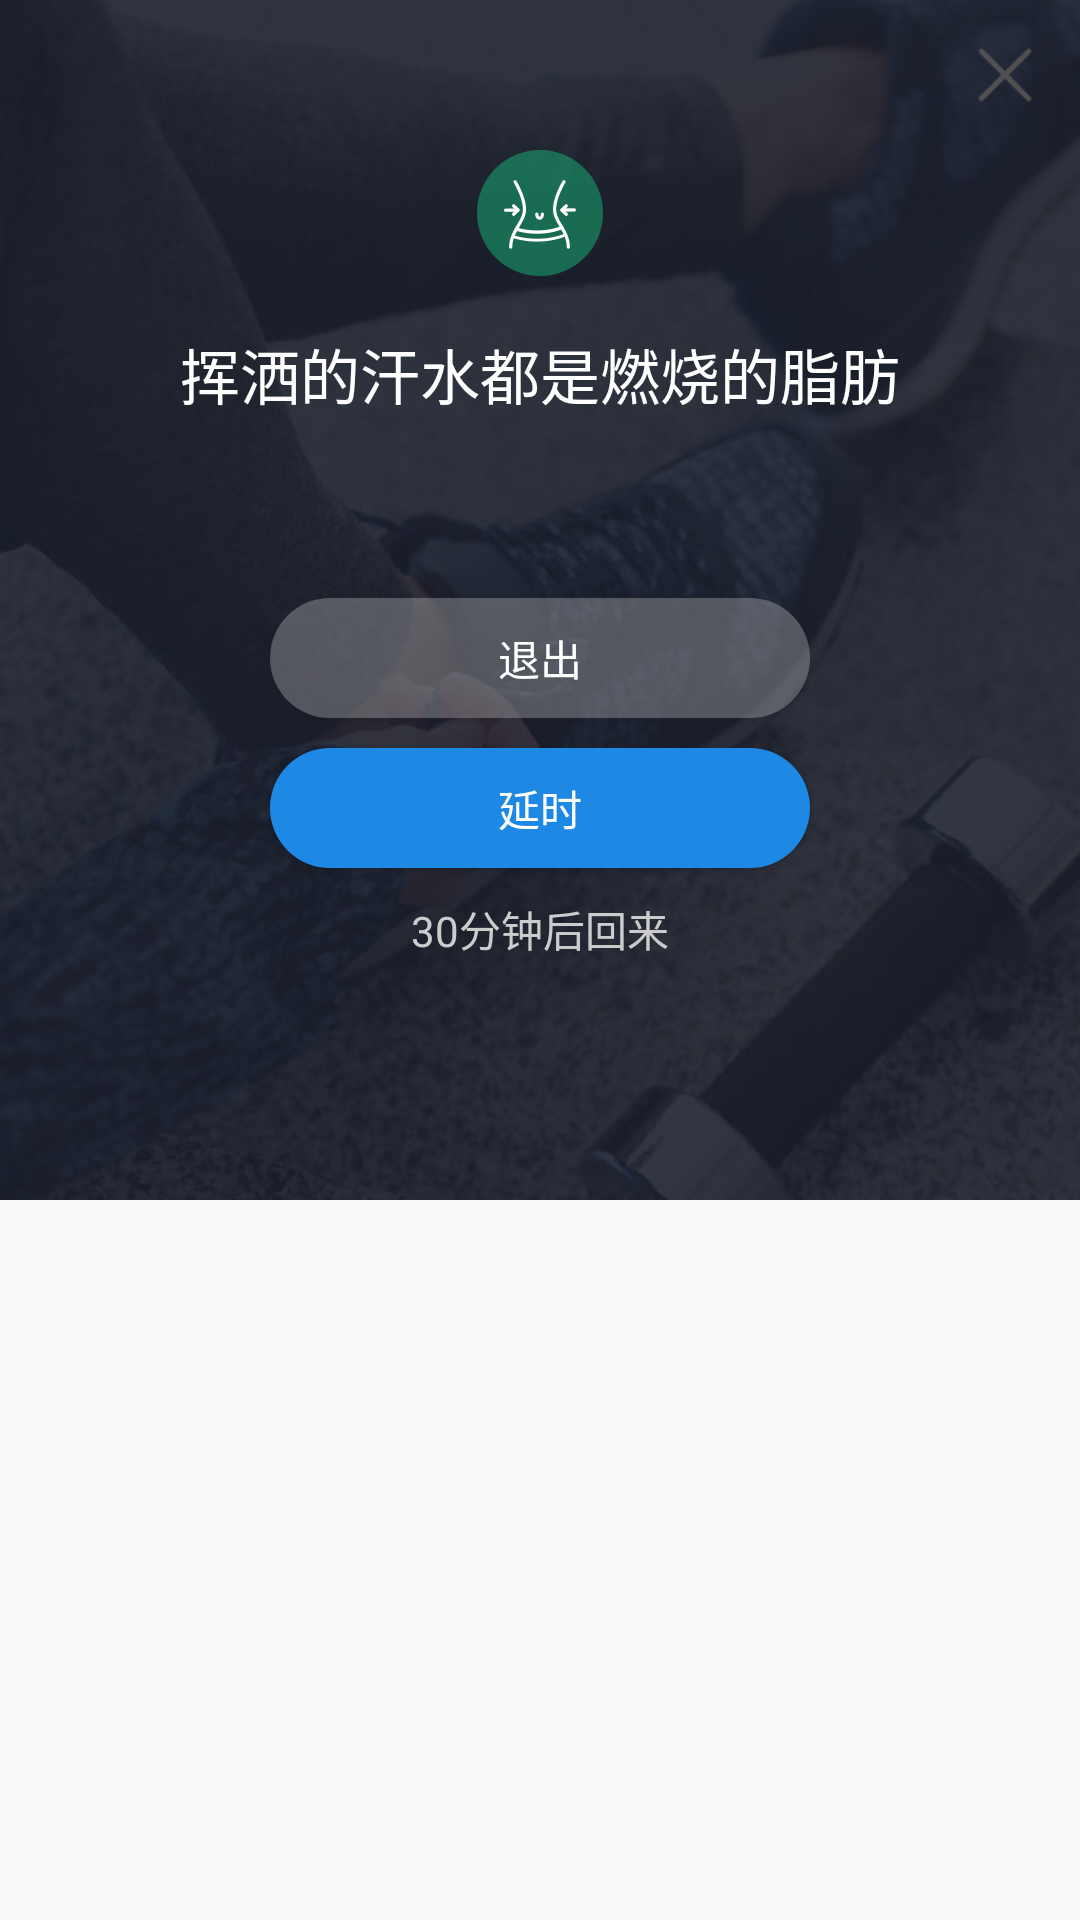

Icon click points for this 1080 × 1920 phone screenshot, format point (x, y):
close: point (1005, 75)
